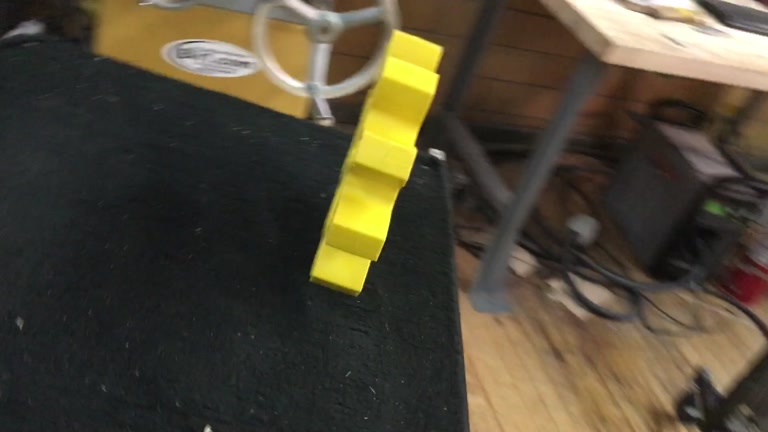gear: (308, 27, 444, 295)
